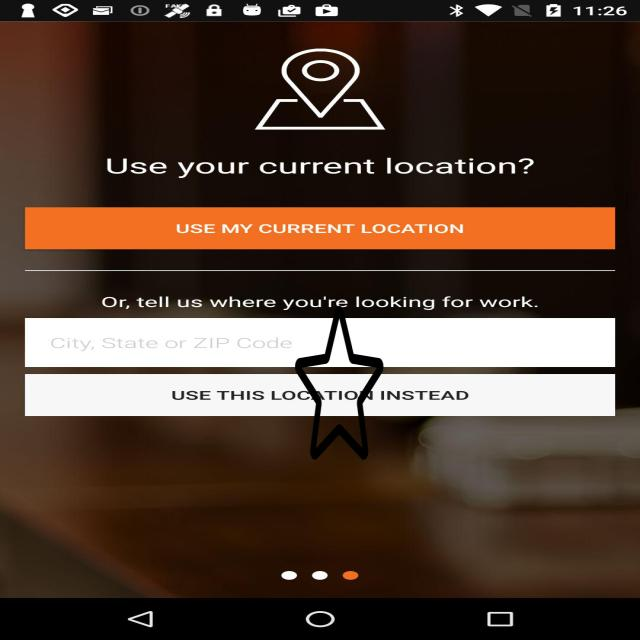forced continuity: (295, 302, 384, 463)
